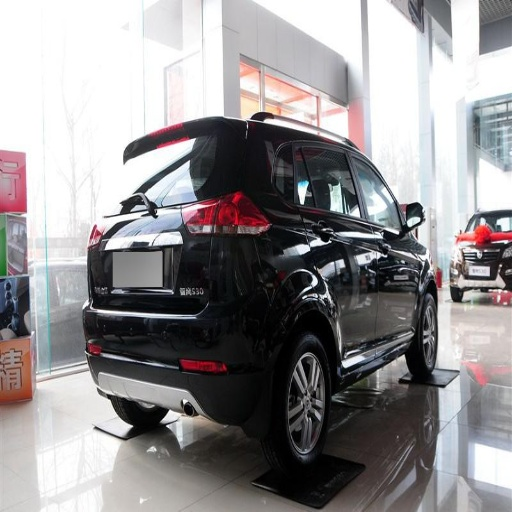back_bumper: (87, 237, 281, 421)
back_right_door: (302, 138, 380, 354)
trunk: (95, 206, 211, 312)
